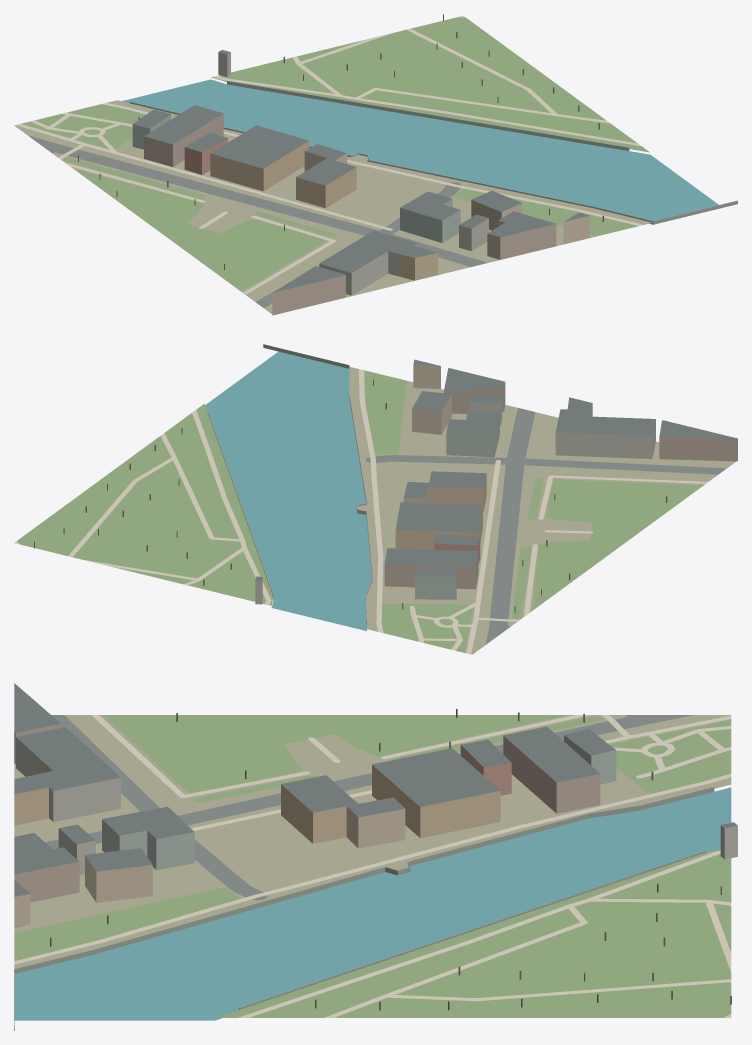
Rendered from sector--2_0.glb.
3 renders of one model, top to bottom at view 1: azimuth 30°, elevation 25°; view 2: azimuth 150°, elevation 25°; view 3: azimuth 270°, elevation 25°, orthographic. The views are drawn at different scales.
Parts seen in each view (by area): view 1: -2:0-park, -2:0-water, -2:0-ground, -2:0-facade, -2:0-roof, -2:0-paving, -2:0-road, -2:0-bank; view 2: -2:0-park, -2:0-water, -2:0-ground, -2:0-facade, -2:0-roof, -2:0-paving, -2:0-road, -2:0-bank; view 3: -2:0-park, -2:0-water, -2:0-ground, -2:0-facade, -2:0-roof, -2:0-paving, -2:0-bank, -2:0-road.
Part boxes in pixels (x1,y1,x2,y2): -2:0-park: [22, 17, 649, 291]; -2:0-water: [122, 79, 718, 220]; -2:0-ground: [14, 100, 652, 313]; -2:0-facade: [132, 52, 589, 315]; -2:0-roof: [133, 50, 588, 292]; -2:0-paving: [15, 15, 643, 294]; -2:0-road: [27, 135, 486, 307]; -2:0-bank: [129, 81, 737, 224]; -2:0-park: [17, 370, 703, 652]; -2:0-water: [205, 351, 371, 630]; -2:0-ground: [349, 367, 735, 654]; -2:0-facade: [255, 365, 737, 604]; -2:0-roof: [255, 359, 736, 581]; -2:0-paving: [14, 369, 707, 654]; -2:0-road: [365, 408, 726, 644]; -2:0-bank: [207, 344, 372, 624]; -2:0-park: [14, 715, 731, 1017]; -2:0-water: [14, 787, 731, 1020]; -2:0-ground: [14, 715, 731, 968]; -2:0-facade: [14, 723, 737, 927]; -2:0-roof: [14, 683, 737, 896]; -2:0-paving: [14, 715, 731, 1017]; -2:0-bank: [14, 787, 714, 1030]; -2:0-road: [45, 715, 693, 900].
Size of the model in its own units: 207 by 10.45 by 202.
